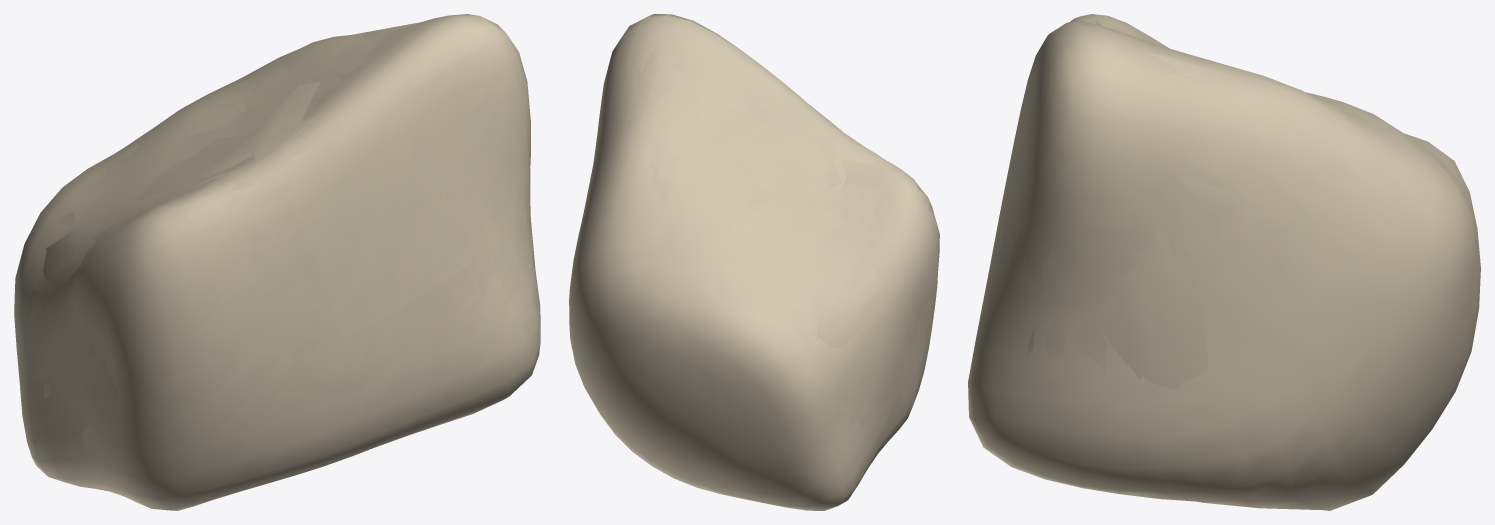
The model's file is L carpale secundum.fbx.
The picture shows the model from 3 angles, left to right: view 1: azimuth 30°, elevation 25°; view 2: azimuth 150°, elevation 25°; view 3: azimuth 270°, elevation 25°; orthographic projection. The views are drawn at different scales.
Parts seen in each view (by area): view 1: L carpale secundum high, L carpale secundum, L carpale secundum low; view 2: L carpale secundum high, L carpale secundum low, L carpale secundum; view 3: L carpale secundum high, L carpale secundum, L carpale secundum low.
Boxes of the visible parts, box(x1,y1,x2,y2) form: L carpale secundum high: box(14, 14, 540, 510); L carpale secundum: box(30, 30, 530, 496); L carpale secundum low: box(43, 21, 534, 489); L carpale secundum high: box(569, 14, 939, 510); L carpale secundum low: box(637, 48, 885, 428); L carpale secundum: box(586, 58, 922, 436); L carpale secundum high: box(968, 14, 1480, 510); L carpale secundum: box(979, 19, 1475, 441); L carpale secundum low: box(1028, 22, 1458, 353).
Bounding box in the file's own units: 1.55 × 1.69 × 1.44.
